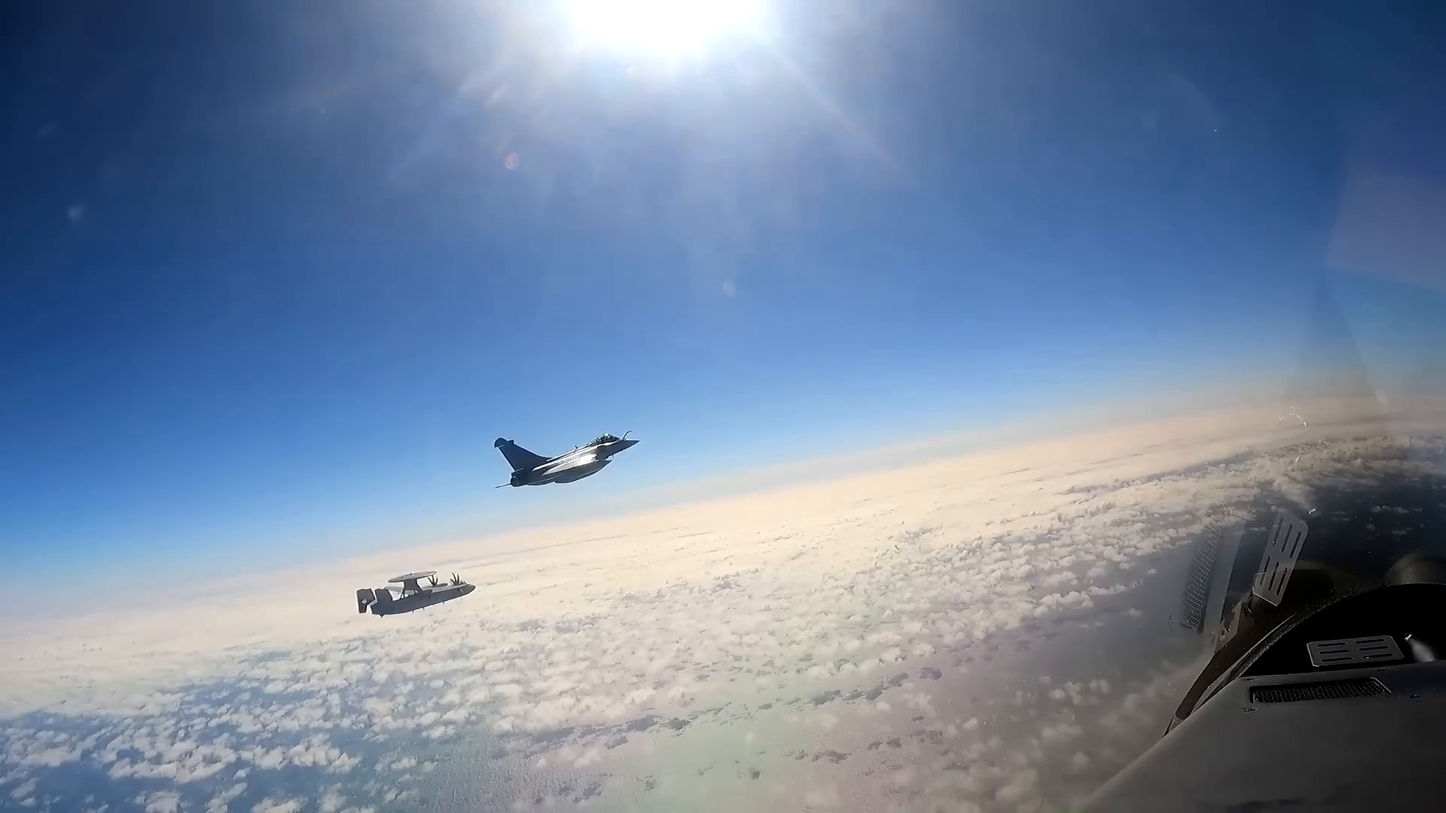Rafale: (494, 426, 644, 494)
